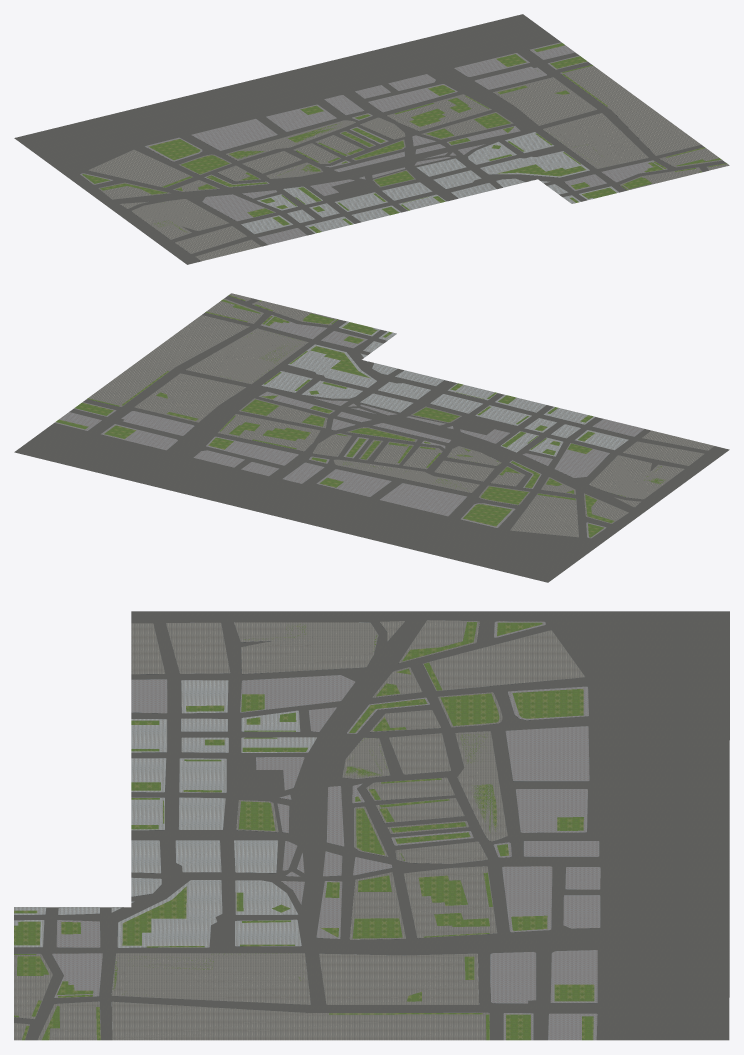
File: sidewalk.FBX
3 renders of one model, top to bottom at view 1: azimuth 30°, elevation 25°; view 2: azimuth 150°, elevation 25°; view 3: azimuth 270°, elevation 25°, orthographic. The views are drawn at different scales.
Visible parts, largest first — view 1: Sidewalk004; view 2: Sidewalk004; view 3: Sidewalk004.
Boxes of the visible parts, x1,y1,x2,y2 form: Sidewalk004: [14, 14, 729, 264]; Sidewalk004: [14, 293, 729, 582]; Sidewalk004: [14, 611, 729, 1040].
Size of the model in its own units: 33799 by 23838 by 9.48.
